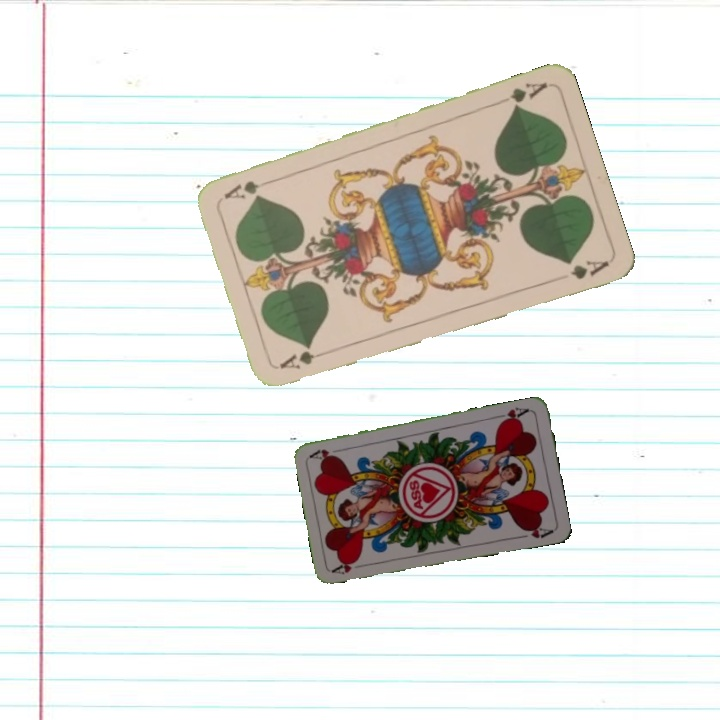GA: (275, 345, 334, 372), (506, 78, 550, 111)
HA: (493, 403, 533, 426), (329, 555, 369, 577)
